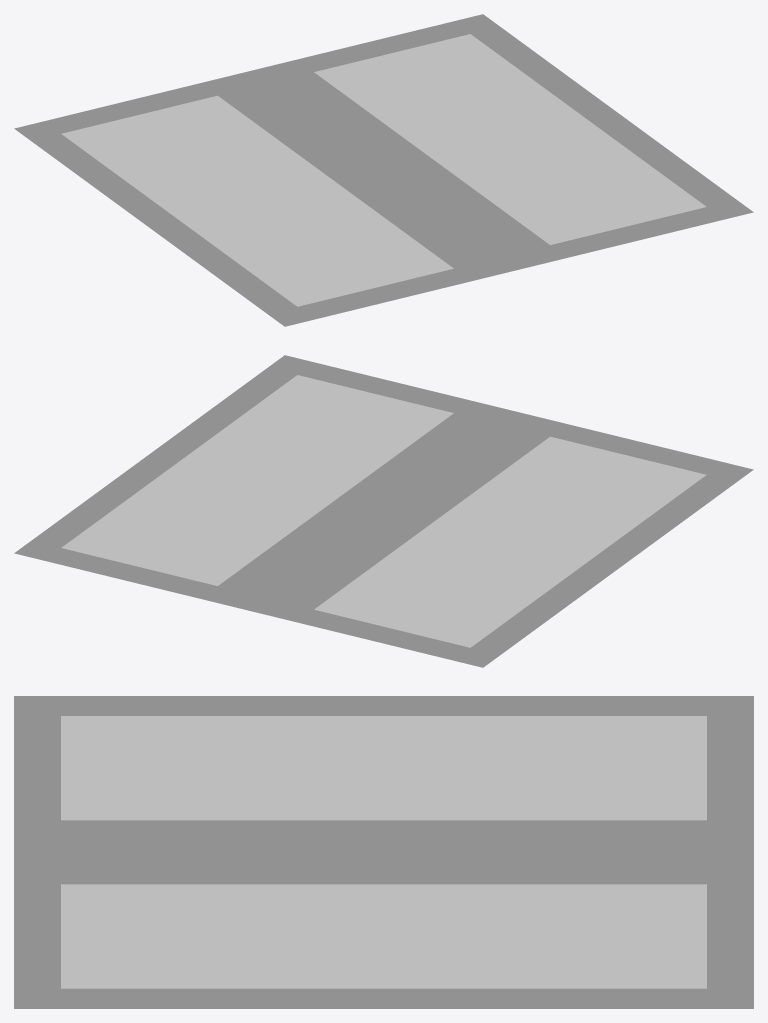
The model's file is tile_for_home_2x2_004.fbx.
3 views of the same model, one above another, from view 1: azimuth 30°, elevation 25°; view 2: azimuth 150°, elevation 25°; view 3: azimuth 270°, elevation 25° (orthographic). The views are drawn at different scales.
Visible parts, largest first — view 1: tile_for_home_2x2_004; view 2: tile_for_home_2x2_004; view 3: tile_for_home_2x2_004.
Part boxes in pixels (left/top/right/bottom): tile_for_home_2x2_004: left=14, top=14, right=753, bottom=326; tile_for_home_2x2_004: left=14, top=355, right=753, bottom=667; tile_for_home_2x2_004: left=14, top=696, right=753, bottom=1008.
Bounding box in the file's own units: 1600 × 0.2897 × 1600.
